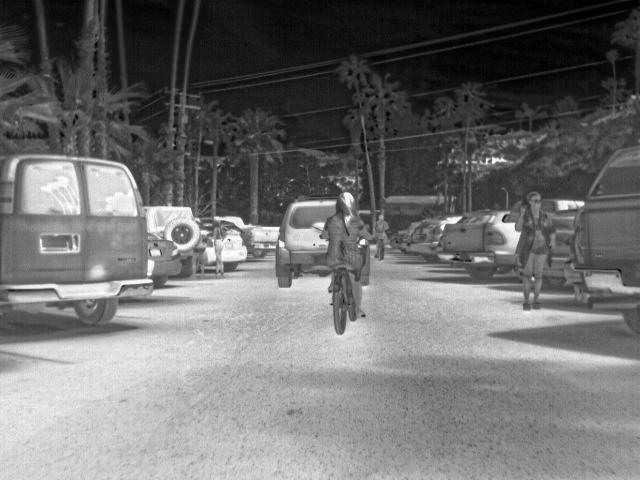car: (1, 153, 150, 328), (568, 144, 640, 340), (274, 192, 342, 289), (443, 211, 516, 282), (543, 208, 579, 290), (407, 213, 463, 262), (148, 205, 200, 253), (148, 232, 185, 289), (213, 216, 247, 271), (247, 225, 280, 260), (401, 221, 422, 254), (389, 228, 408, 250)
person: (320, 191, 372, 318), (516, 191, 558, 311), (188, 232, 209, 282), (209, 218, 223, 274), (372, 212, 392, 246)
